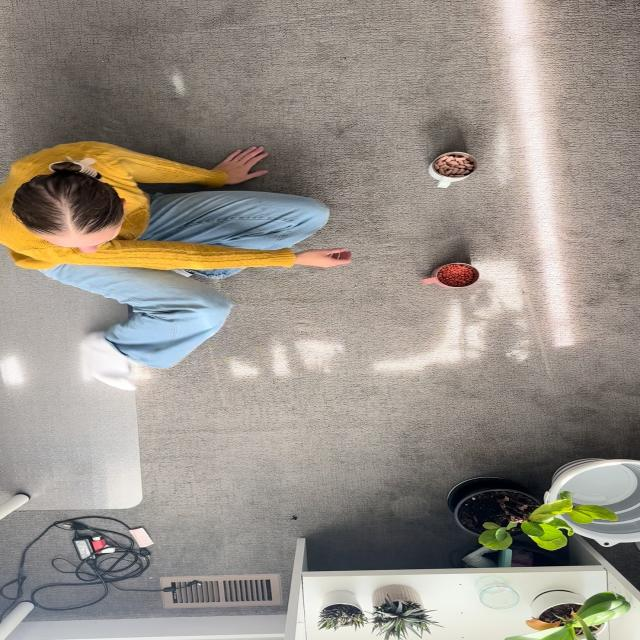IBC: (430, 152, 476, 188), (422, 262, 479, 288)
